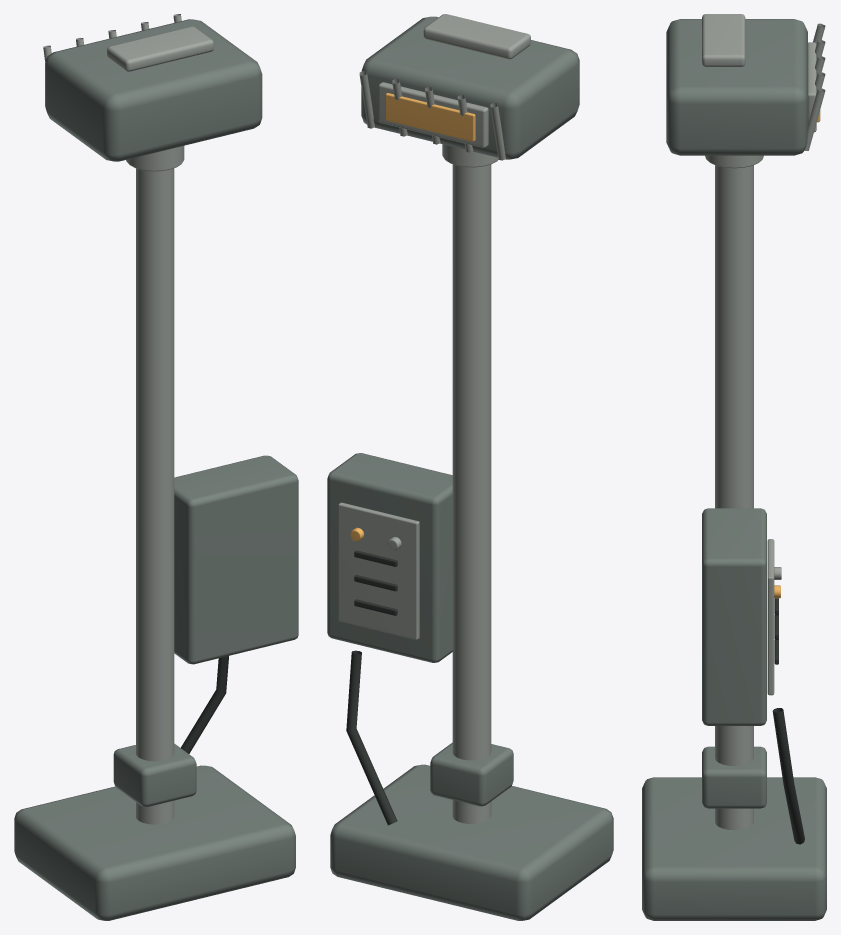
Rendered from E27_LampPole.fbx.
3 views of the same model, side by side, from view 1: azimuth 30°, elevation 25°; view 2: azimuth 150°, elevation 25°; view 3: azimuth 270°, elevation 25° (orthographic).
Visible parts, largest first — view 1: E27_LampPole_PaintedMetal, E27_LampPole_Steel, E27_LampPole_Rubber; view 2: E27_LampPole_PaintedMetal, E27_LampPole_Steel, E27_LampPole_Rubber, E27_LampPole_Lamp; view 3: E27_LampPole_PaintedMetal, E27_LampPole_Steel, E27_LampPole_Rubber.
Part boxes in pixels (x1=…): E27_LampPole_PaintedMetal: x1=14, y1=19, x2=298, y2=920; E27_LampPole_Steel: x1=43, y1=14, x2=213, y2=824; E27_LampPole_Rubber: x1=181, y1=656, x2=228, y2=753; E27_LampPole_PaintedMetal: x1=327, y1=16, x2=613, y2=920; E27_LampPole_Steel: x1=338, y1=14, x2=530, y2=823; E27_LampPole_Rubber: x1=346, y1=550, x2=397, y2=825; E27_LampPole_Lamp: x1=350, y1=93, x2=475, y2=541; E27_LampPole_PaintedMetal: x1=642, y1=19, x2=826, y2=920; E27_LampPole_Steel: x1=702, y1=14, x2=825, y2=830; E27_LampPole_Rubber: x1=772, y1=598, x2=804, y2=844.
Bounding box in the file's own units: 49.5 × 171 × 34.
